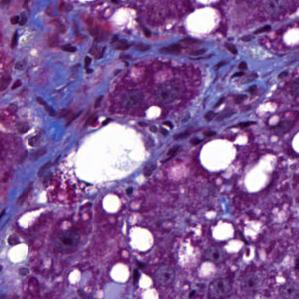ballooning: (62, 115, 159, 198)
